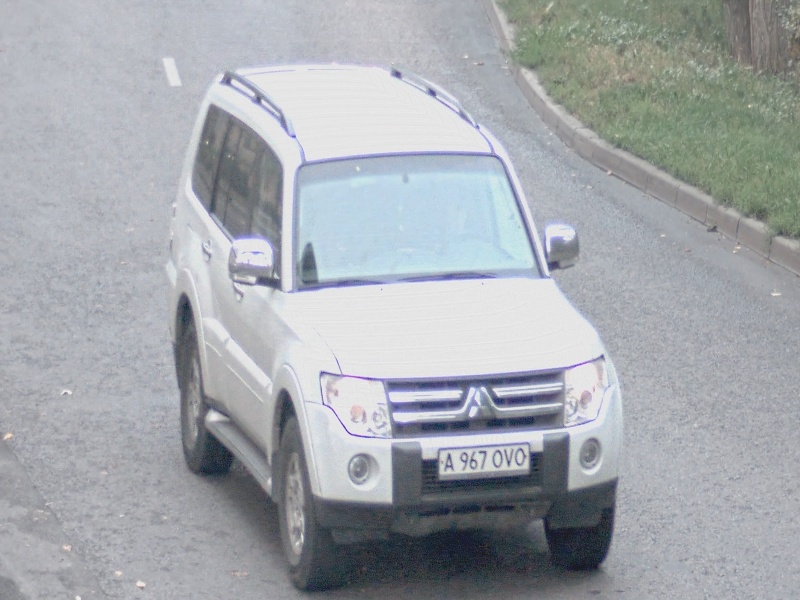plate: (435, 440, 532, 484)
